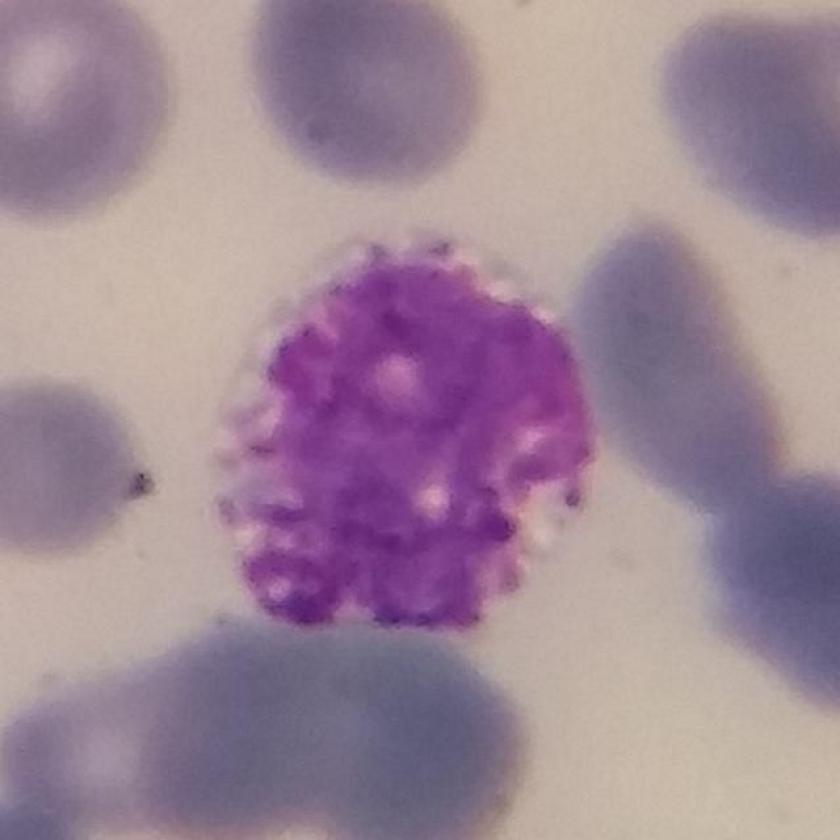basophil: (206, 218, 619, 647)
